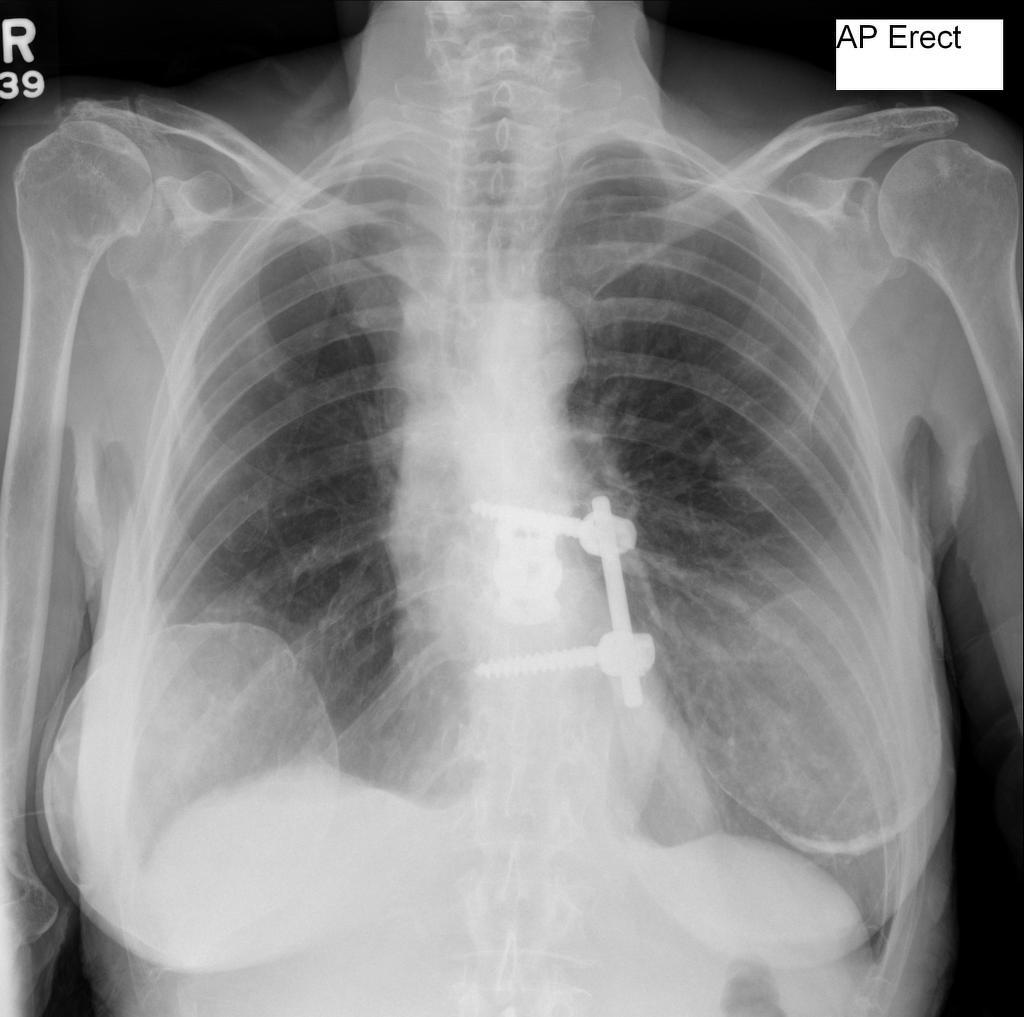cancer: (212, 274, 504, 802)
